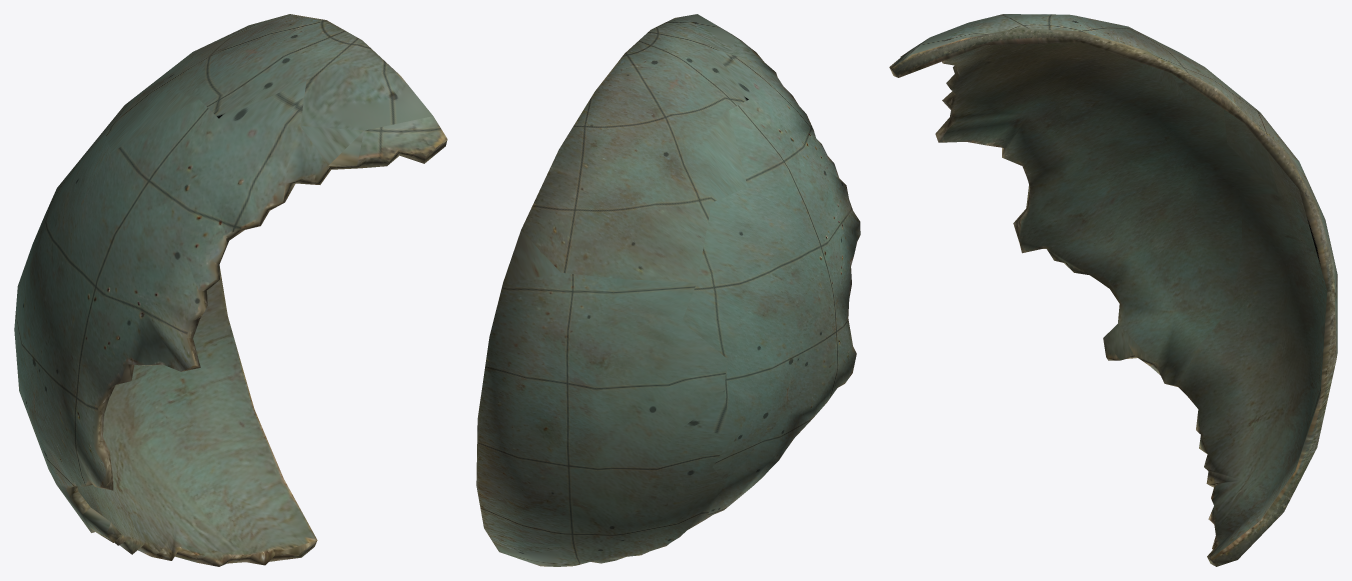
File: StarShell_LOD2.fbx
The picture shows the model from 3 angles, left to right: view 1: azimuth 30°, elevation 25°; view 2: azimuth 150°, elevation 25°; view 3: azimuth 270°, elevation 25°; orthographic projection. The views are drawn at different scales.
Parts seen in each view (by area): view 1: StarShell_LOD2; view 2: StarShell_LOD2; view 3: StarShell_LOD2.
Boxes of the visible parts, x1,y1,x2,y2 form: StarShell_LOD2: (14, 14, 447, 566); StarShell_LOD2: (476, 14, 860, 566); StarShell_LOD2: (889, 14, 1337, 566).
Bounding box in the file's own units: 0.9103 × 1.6 × 1.26.
1 material, 1 textured.
